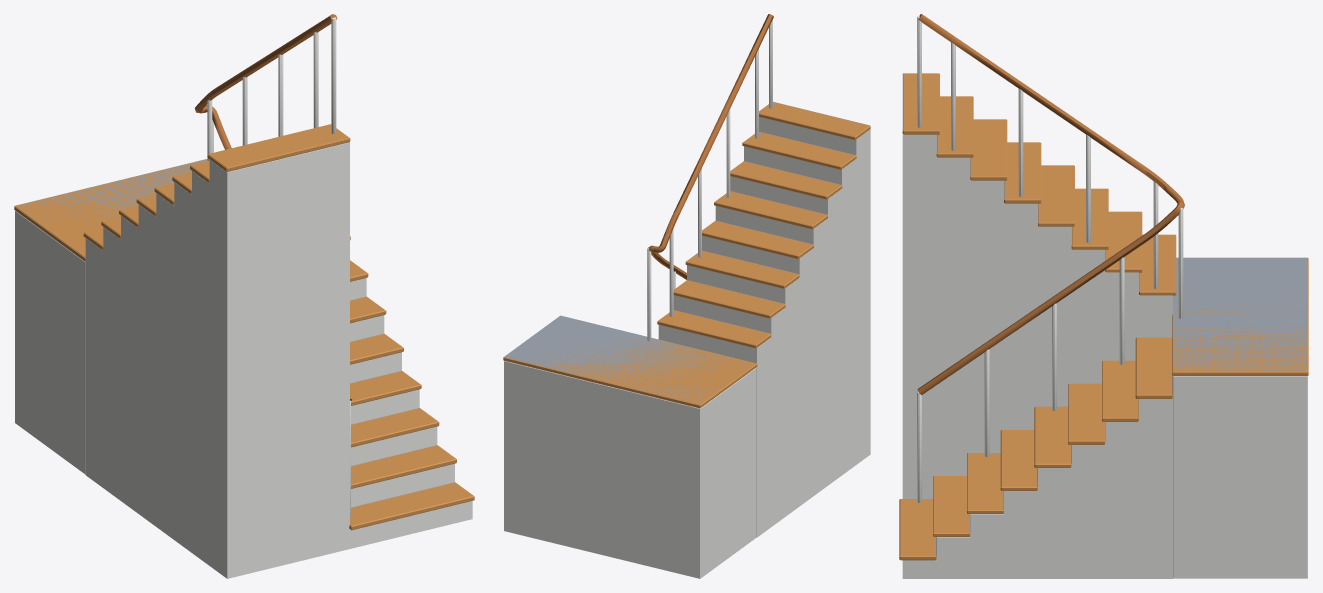
The model's file is escada_u_esq.glb.
3 renders of one model, left to right at view 1: azimuth 30°, elevation 25°; view 2: azimuth 150°, elevation 25°; view 3: azimuth 270°, elevation 25°, orthographic. The views are drawn at different scales.
Visible parts, largest first — view 1: escada_u_esq, colisao_malha; view 2: escada_u_esq, colisao_malha; view 3: escada_u_esq, colisao_malha.
Boxes of the visible parts, box(x1,y1,x2,y2) form: escada_u_esq: box(14, 14, 474, 578); colisao_malha: box(17, 139, 454, 507); escada_u_esq: box(503, 14, 870, 578); colisao_malha: box(504, 102, 869, 403); escada_u_esq: box(899, 14, 1308, 578); colisao_malha: box(902, 73, 1307, 555).
Size of the model in its own units: 2.01 by 4.12 by 3.03.
Materials: 1 (1 with a texture image).
